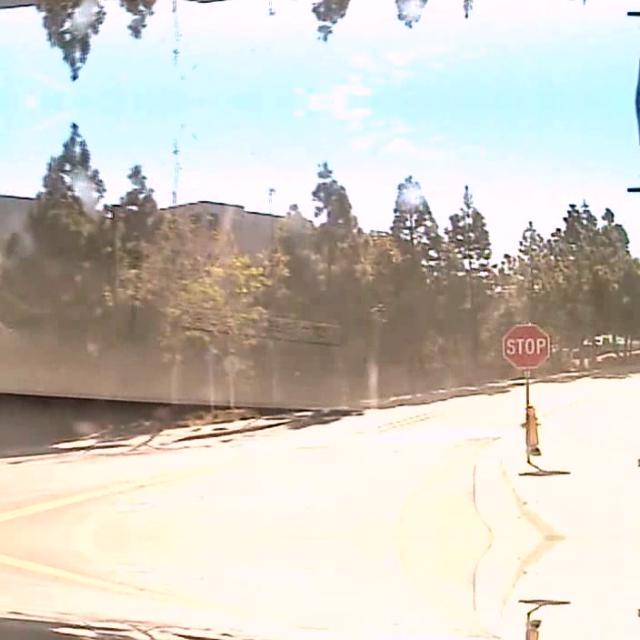stop: (501, 322, 549, 368)
